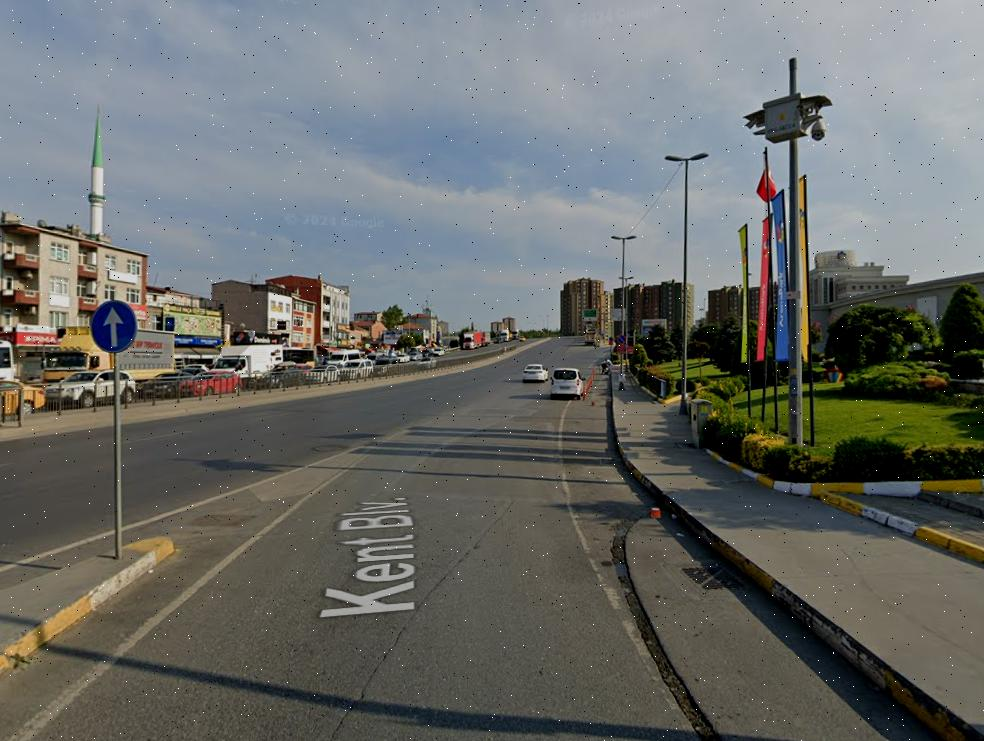forward: (93, 301, 132, 349)
